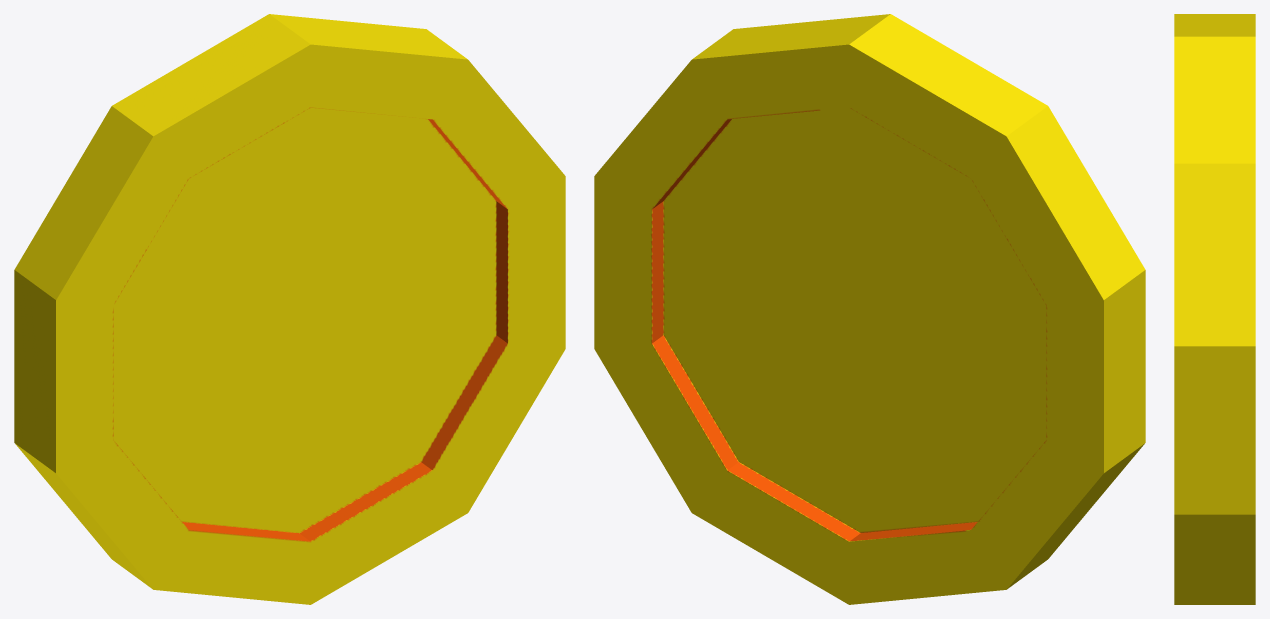
File: Coin.fbx
3 views of the same model, side by side, from view 1: azimuth 30°, elevation 25°; view 2: azimuth 150°, elevation 25°; view 3: azimuth 270°, elevation 25° (orthographic). The views are drawn at different scales.
Visible parts, largest first — view 1: Cylinder; view 2: Cylinder; view 3: Cylinder.
Boxes of the visible parts, left/top/right/bottom form: Cylinder: left=14, top=14, right=565, bottom=604; Cylinder: left=594, top=14, right=1145, bottom=604; Cylinder: left=1174, top=14, right=1255, bottom=604.
Bounding box in the file's own units: 190 × 200 × 26.96.
